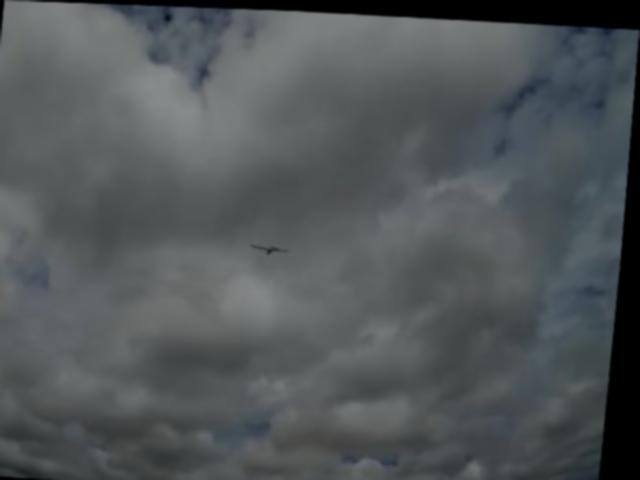uav: (249, 235, 297, 261)
